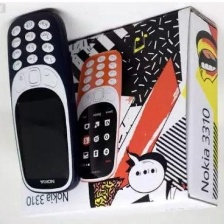book: (16, 2, 221, 219)
phone: (3, 6, 83, 199)
